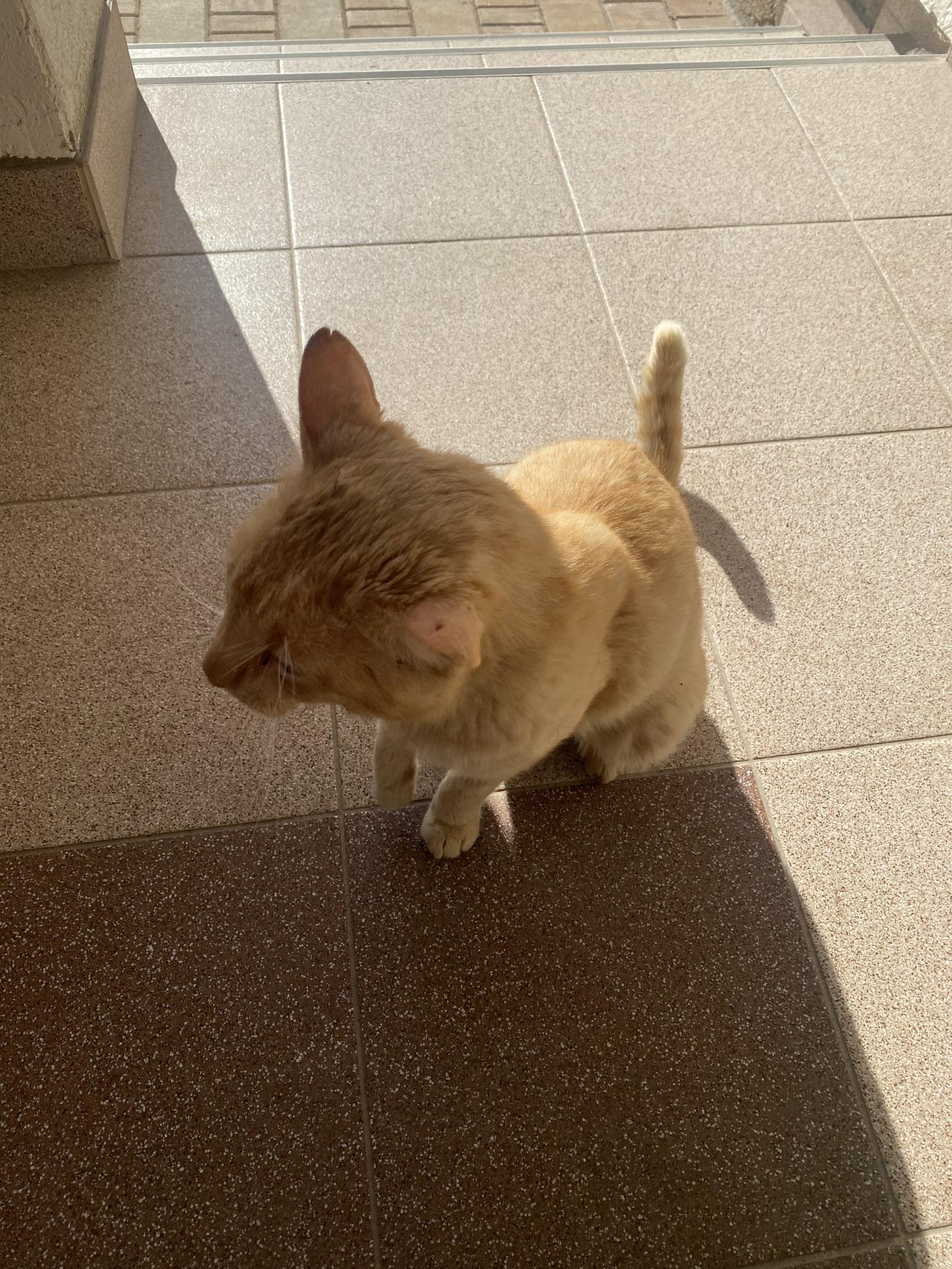macka: (203, 325, 711, 856)
